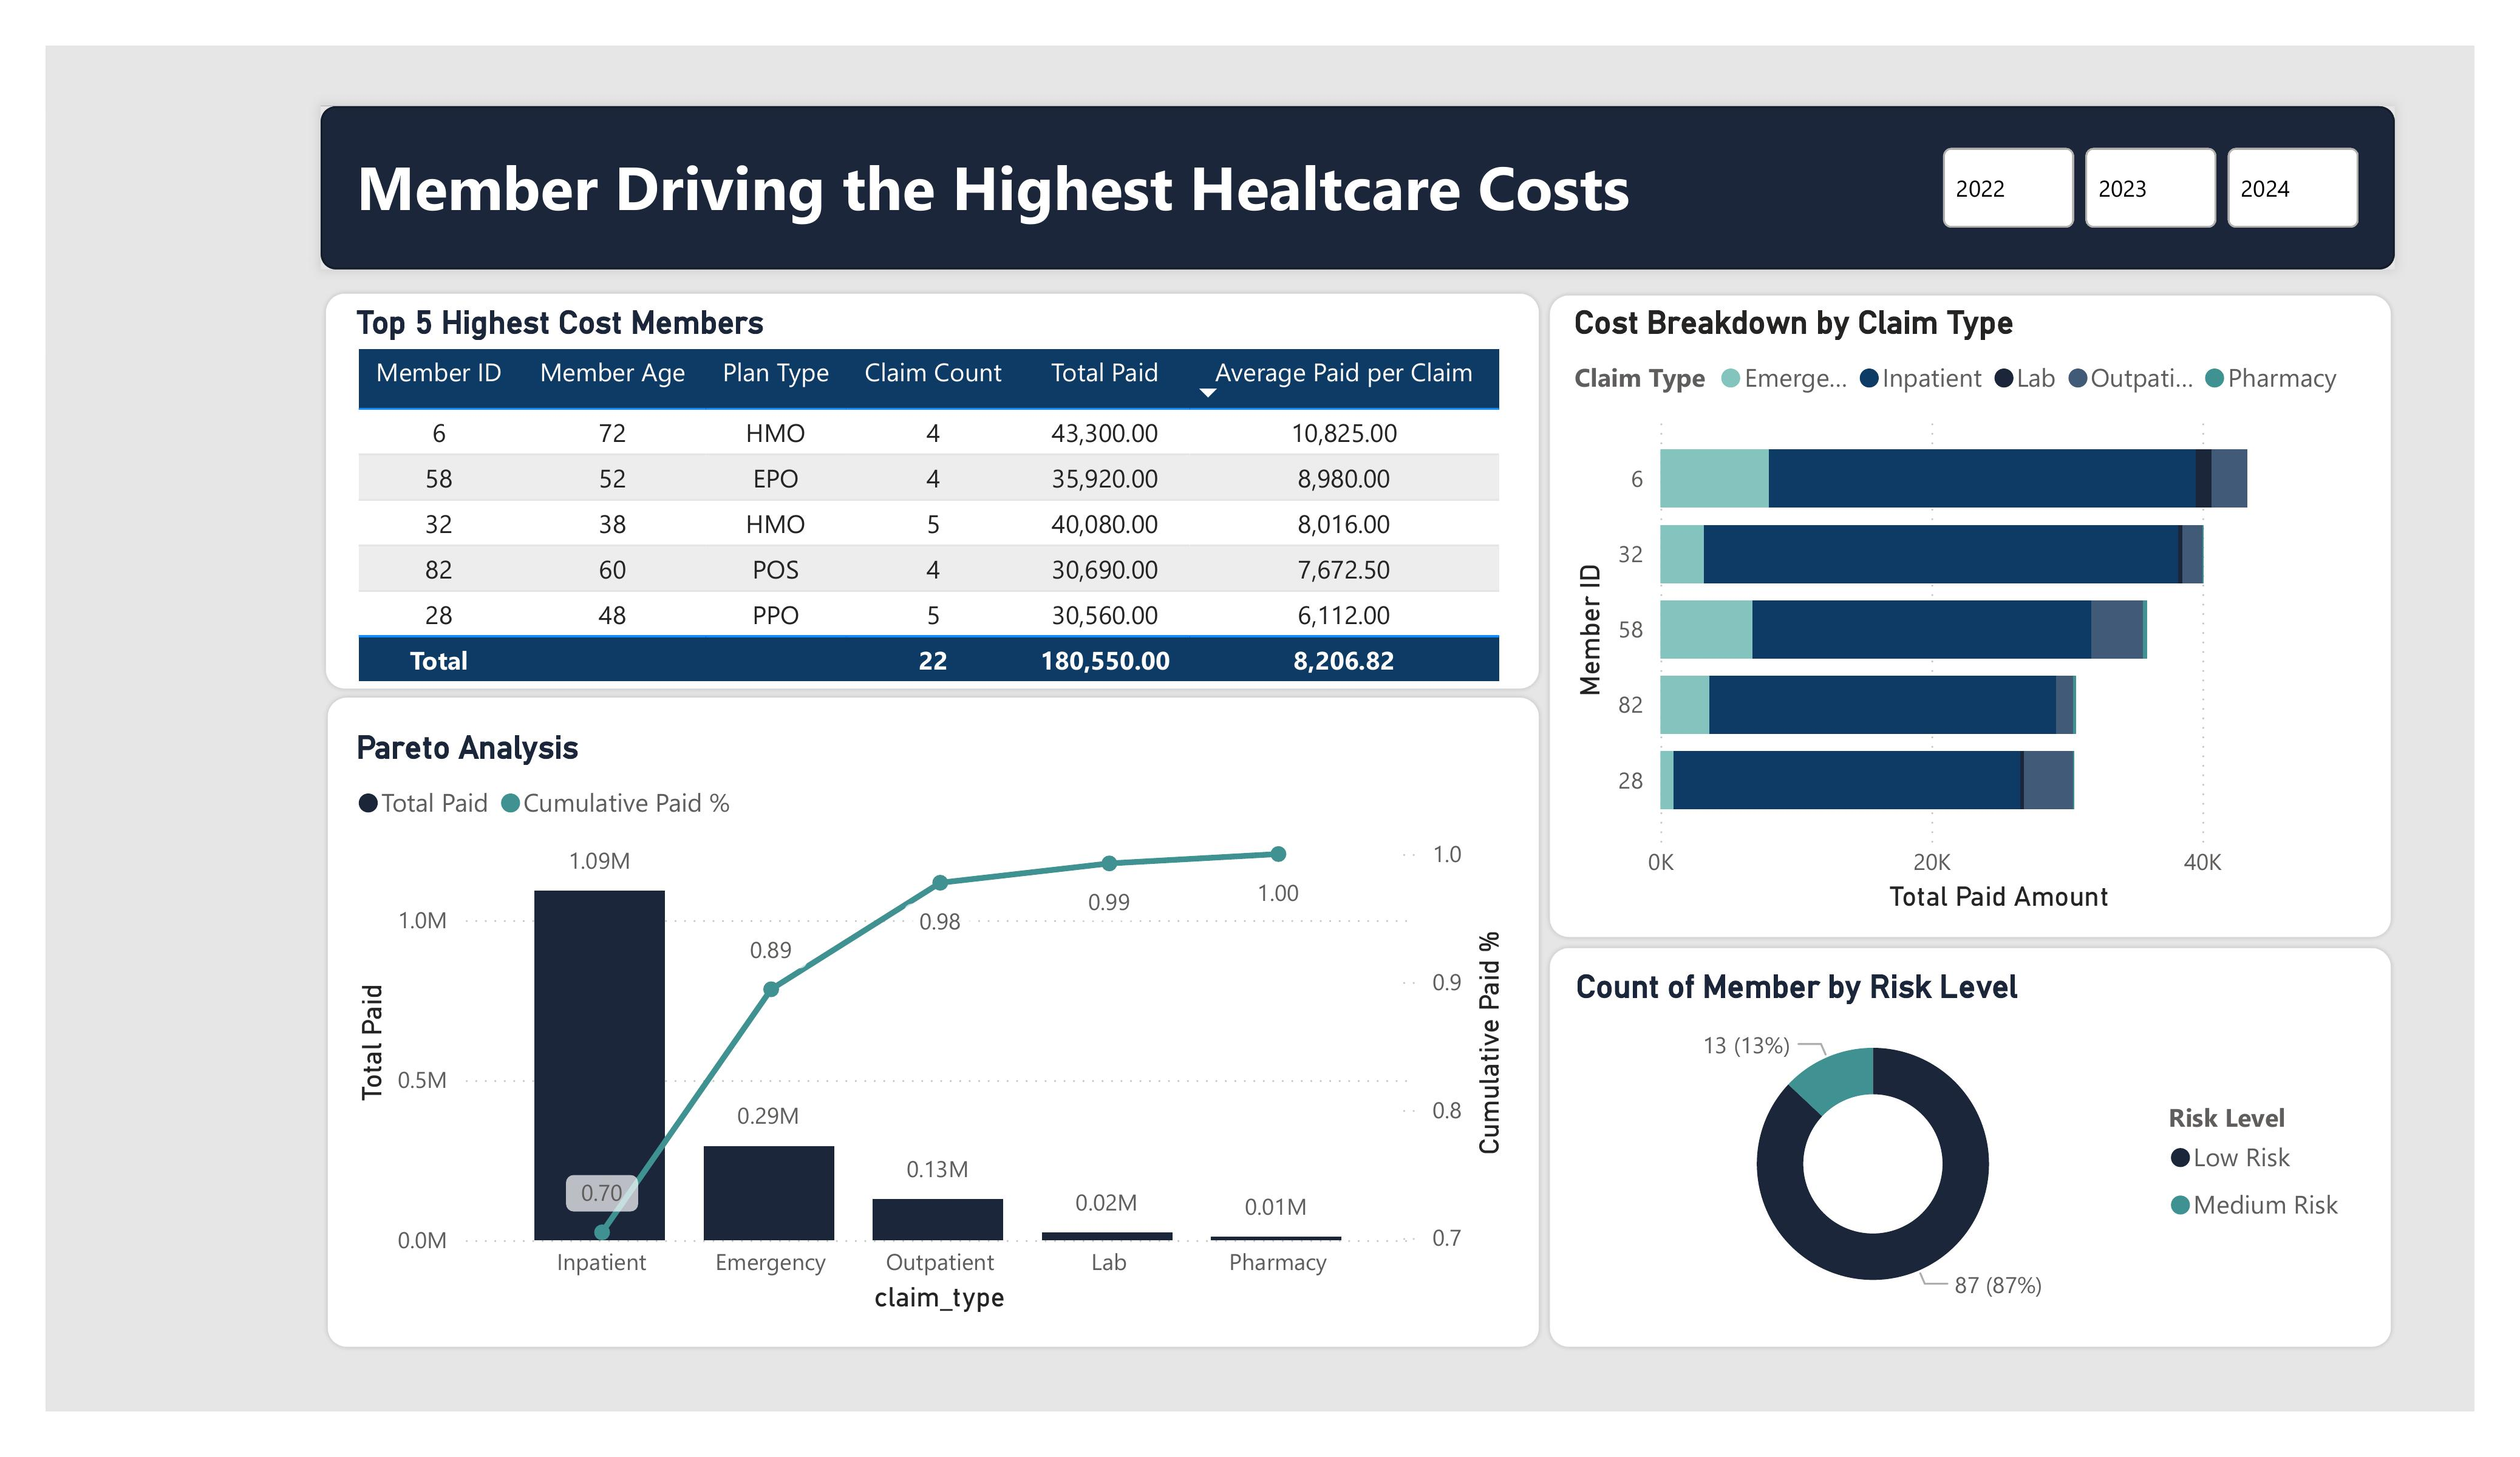

The dashboard page shown, as its layout file describes it:
{"tool":"powerbi","page":{"name":"High-Cost Member Analysis","canvas":[1280,720],"ordinal":2},"visuals":[{"type":"shape","box":[145,31.7,1093.3,86.7],"z":0},{"type":"shape","box":[145.7,341.4,644.3,347.1],"z":500},{"type":"shape","box":[145,128.3,645,213.3],"z":750},{"type":"shape","box":[790,128.6,448.6,344.3],"z":875},{"type":"shape","box":[790,473.3,448.9,215.6],"z":937},{"type":"textbox","box":[158.6,47.1,717.1,75.7],"z":1000},{"type":"tableEx","title":"Top 5 Highest Cost Members","fields":{"Values":["healtcare_claim vw_claims_gold.member_id","healtcare_claim vw_claims_gold.member_age","healtcare_claim vw_claims_gold.plan_type","healtcare_claim claims.Claim Count","healtcare_claim claims.Total Paid","healtcare_claim claims.Avg Paid per Claim"]},"box":[158.6,135.7,614.3,205.7],"z":2000},{"type":"barChart","title":"Cost Breakdown by Claim Type","fields":{"Category":["healtcare_claim vw_claims_gold.member_id"],"Y":["healtcare_claim claims.Total Paid"],"Series":["healtcare_claim vw_claims_gold.claim_type"]},"box":[801.1,135.6,422.2,326.7],"z":3000},{"type":"donutChart","title":"Count of Member by Risk Level","fields":{"Category":["healtcare_claim vw_member_risk.risk_level"],"Y":["CountNonNull(healtcare_claim vw_member_risk.member_id)"]},"box":[801.7,486.1,421.7,188.3],"z":4000},{"type":"lineClusteredColumnComboChart","title":"Pareto Analysis","fields":{"Category":["healtcare_claim vw_claims_gold.claim_type"],"Y":["healtcare_claim claims.Total Paid"],"Y2":["healtcare_claim vw_claims_gold.Cumulative Paid %"]},"box":[158.6,360,614.3,312.9],"z":5000},{"type":"advancedSlicerVisual","fields":{"Values":["healtcare_claim vw_claims_gold.claim_year"]},"box":[994.9,48.5,228.9,52.6],"z":6000}]}

Visuals, with their boxes on the page's 1280x720 design canvas (x1, y1, x2, y2). These are canvas units, not pixel positions in the 2520x1457 screenshot, which may show the page scaled, cropped or inside an application window:
shape: bbox=[145, 32, 1238, 118]
shape: bbox=[146, 341, 790, 688]
shape: bbox=[145, 128, 790, 342]
shape: bbox=[790, 129, 1239, 473]
shape: bbox=[790, 473, 1239, 689]
textbox: bbox=[159, 47, 876, 123]
"Top 5 Highest Cost Members" tableEx: bbox=[159, 136, 773, 341]
"Cost Breakdown by Claim Type" barChart: bbox=[801, 136, 1223, 462]
"Count of Member by Risk Level" donutChart: bbox=[802, 486, 1223, 674]
"Pareto Analysis" lineClusteredColumnComboChart: bbox=[159, 360, 773, 673]
advancedSlicerVisual - healtcare_claim vw_claims_gold.claim_year: bbox=[995, 48, 1224, 101]
